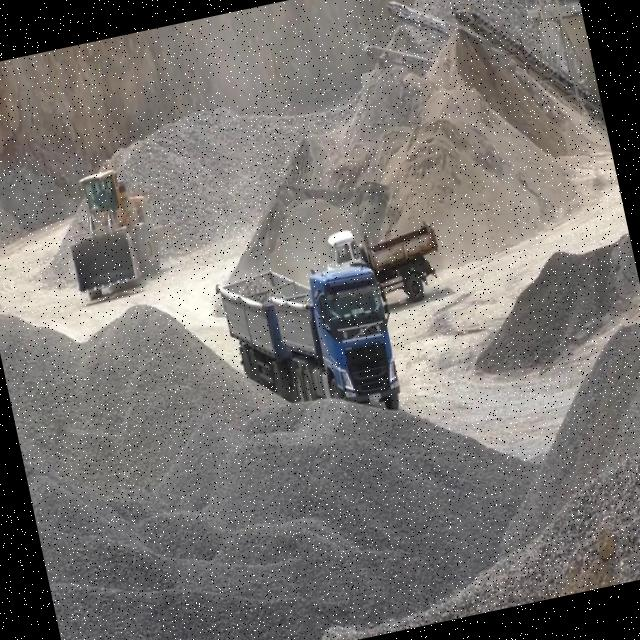Dump Truck: (214, 243, 406, 444), (329, 212, 446, 313), (0, 224, 16, 315)
Loader: (53, 160, 178, 304)
